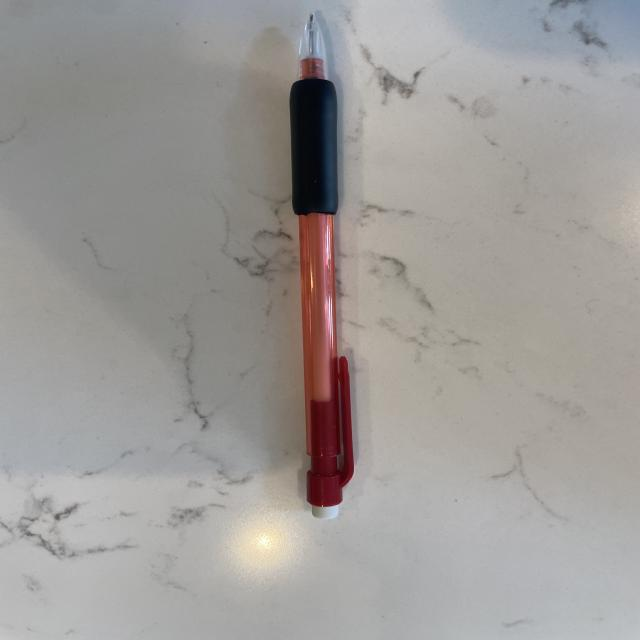mechanical-pencils: (292, 16, 354, 511)
